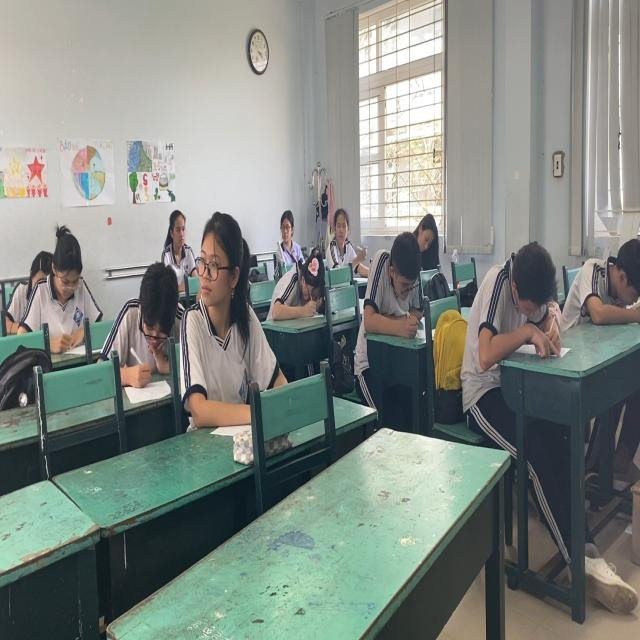cheating: (186, 210, 272, 414)
not_cheating: (474, 238, 562, 359), (29, 224, 103, 352), (112, 265, 184, 379), (367, 227, 427, 355), (571, 231, 640, 331), (284, 248, 328, 317), (326, 200, 365, 272), (416, 200, 443, 278), (161, 210, 192, 272), (274, 210, 303, 269)
